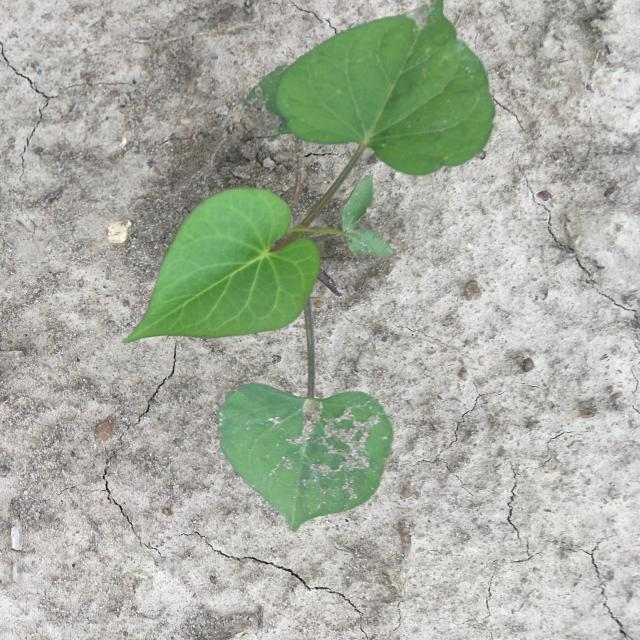MorningGlory: (121, 1, 496, 532)
